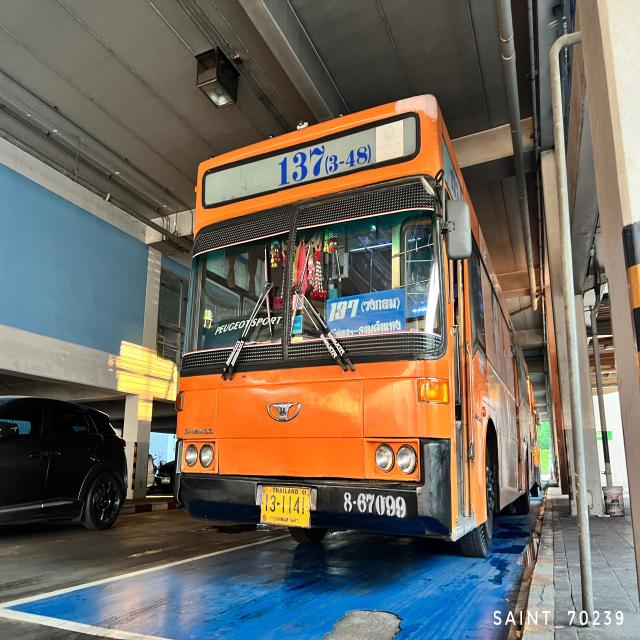BMTA-bus: (173, 85, 543, 563)
Bus-Line-Number: (272, 126, 376, 189)
Destination-Sign-Normal: (326, 287, 406, 339)
